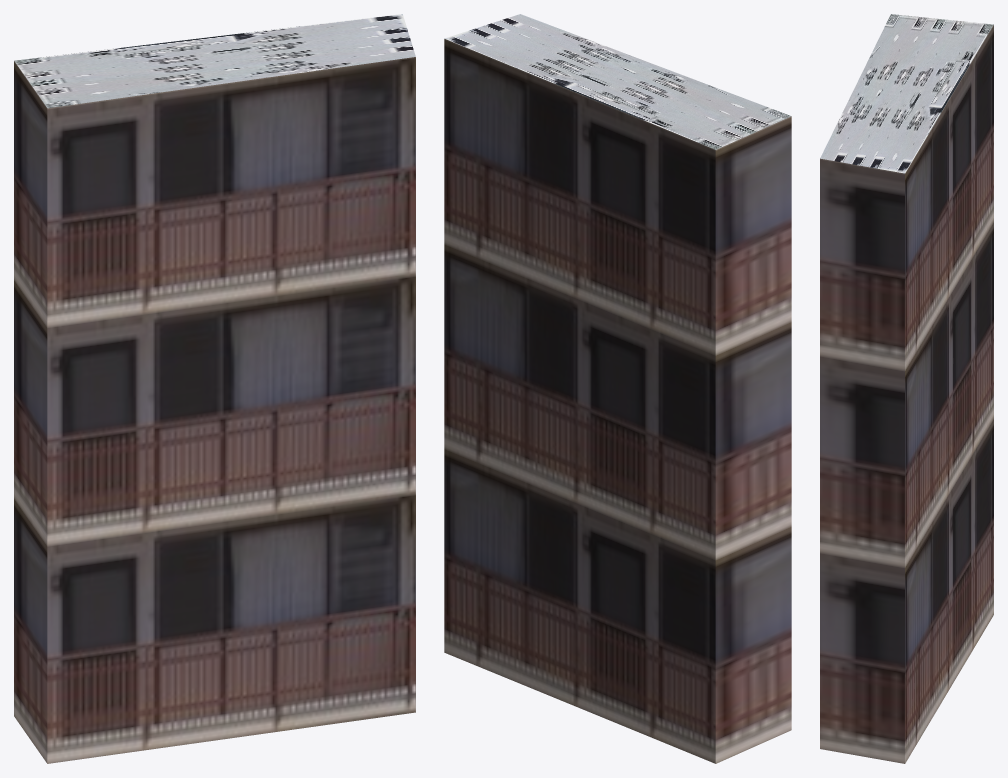
File: ResTex__880.fbx
3 views of the same model, side by side, from view 1: azimuth 30°, elevation 25°; view 2: azimuth 150°, elevation 25°; view 3: azimuth 270°, elevation 25° (orthographic). The views are drawn at different scales.
Parts seen in each view (by area): view 1: CityEngineMaterial_6_m, CityEngineMaterial_m; view 2: CityEngineMaterial_6_m, CityEngineMaterial_m; view 3: CityEngineMaterial_6_m, CityEngineMaterial_m.
Part boxes in pixels (x1,y1,x2,y2): CityEngineMaterial_6_m: (14, 57, 415, 763); CityEngineMaterial_m: (14, 14, 415, 108); CityEngineMaterial_6_m: (444, 39, 791, 763); CityEngineMaterial_m: (444, 14, 791, 149); CityEngineMaterial_6_m: (820, 25, 993, 763); CityEngineMaterial_m: (820, 14, 993, 173).
Size of the model in its own units: 5.22 by 9 by 2.4.
Materials: 2 (2 with a texture image).
